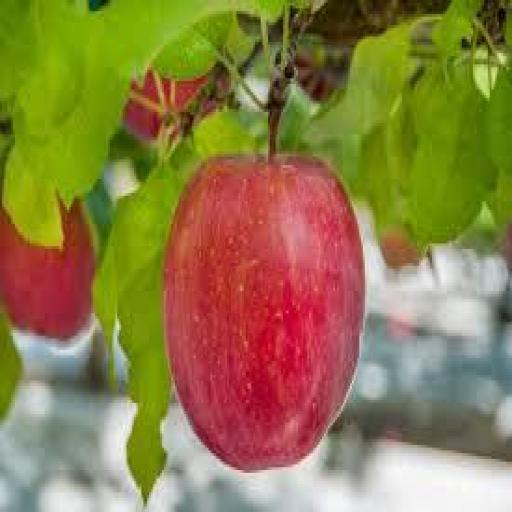apple: (164, 157, 364, 470)
